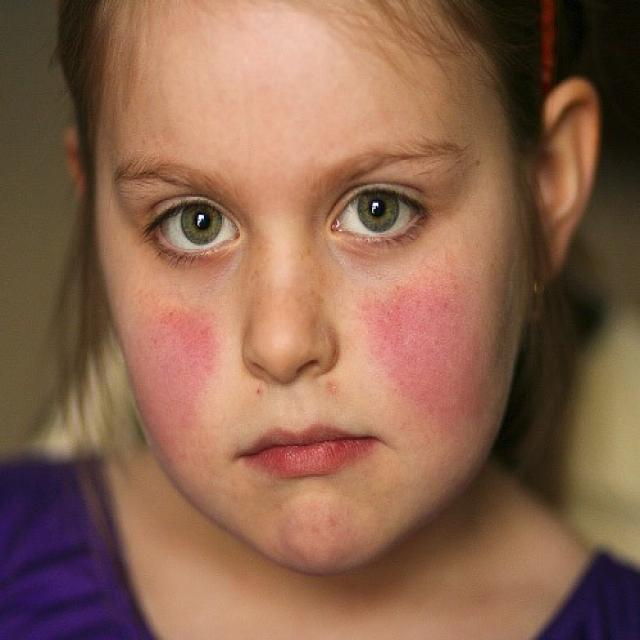Erythema infectiosum: (374, 283, 508, 416), (123, 291, 233, 417)
